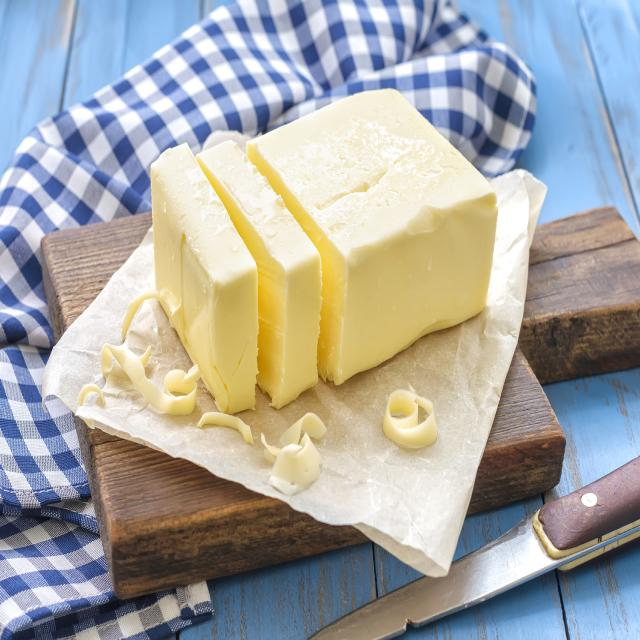Butter: (251, 84, 494, 391), (192, 140, 322, 417), (144, 144, 258, 419)
